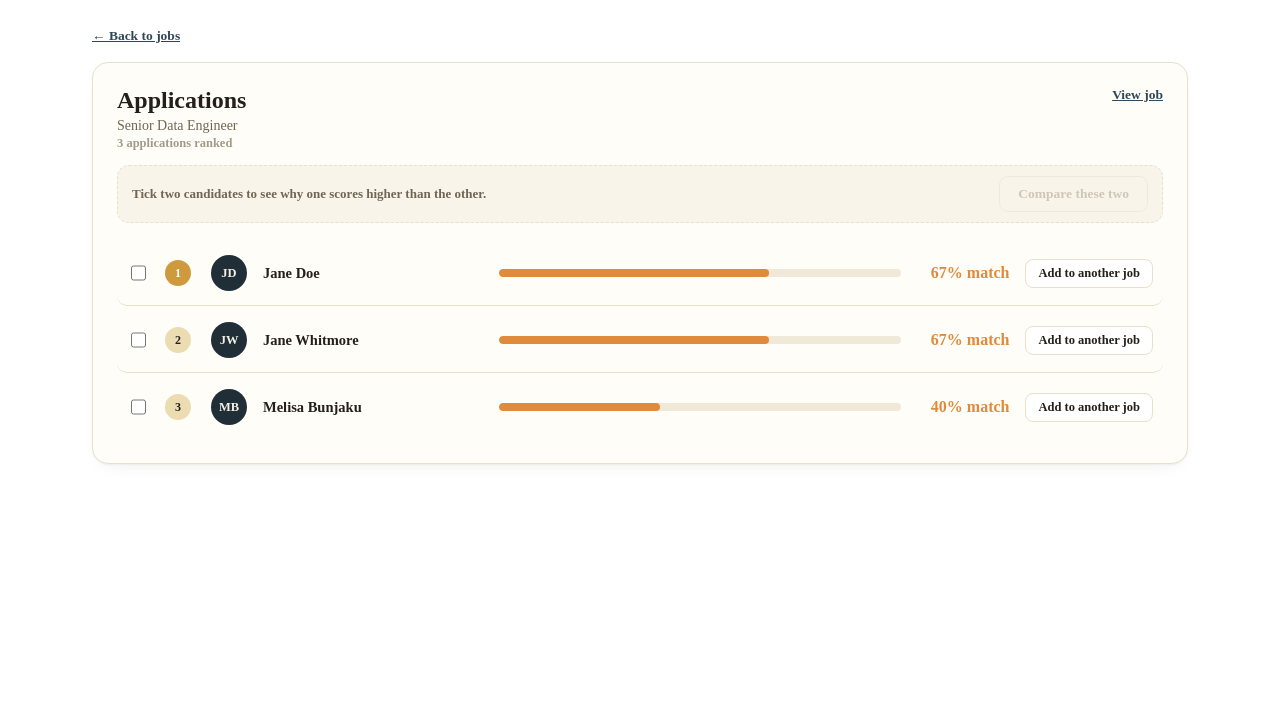
Test: JobMatchesPage › Add to another job › shows the API error inside the dialog and keeps it open
expect the link "Jane Doe" is shown: met, box [263, 264, 320, 280]
Click the 1st button "Add to another job" at (1089, 273), box [1026, 258, 1153, 288]
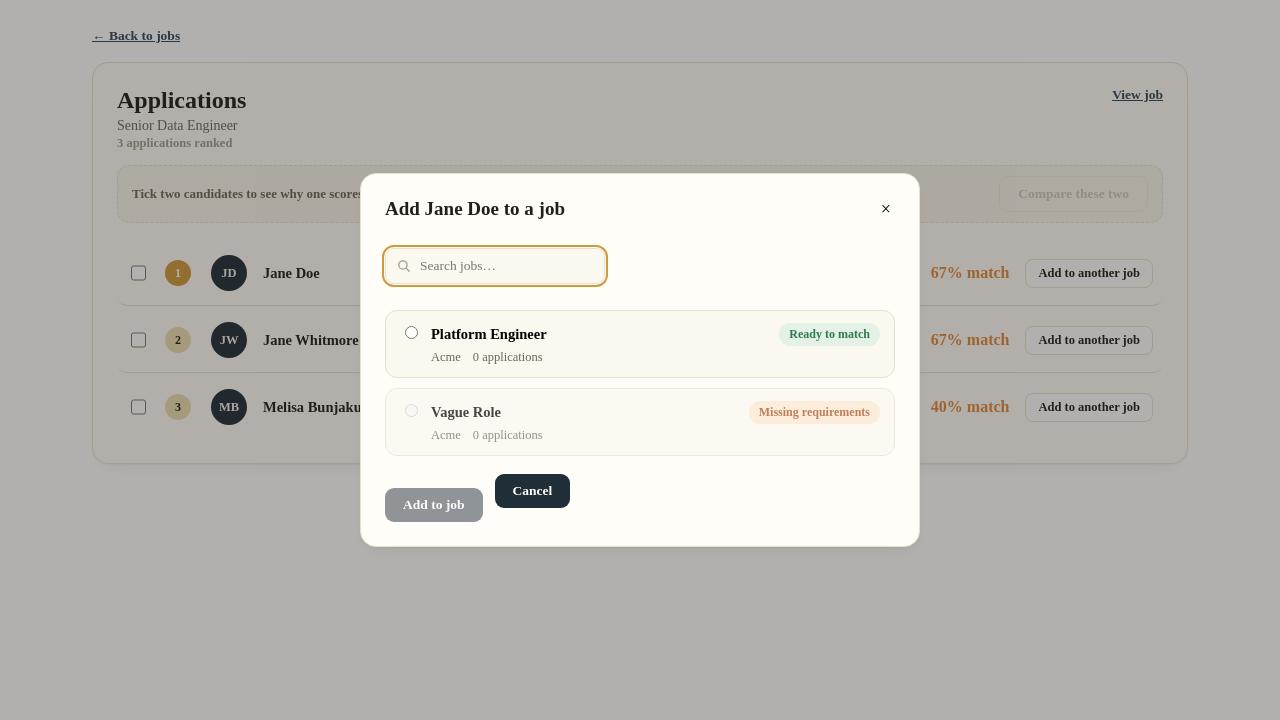
Click the radio button labelled "Platform Engineer Ready to match Acme 0 applications" at (412, 332), box [405, 326, 418, 339]
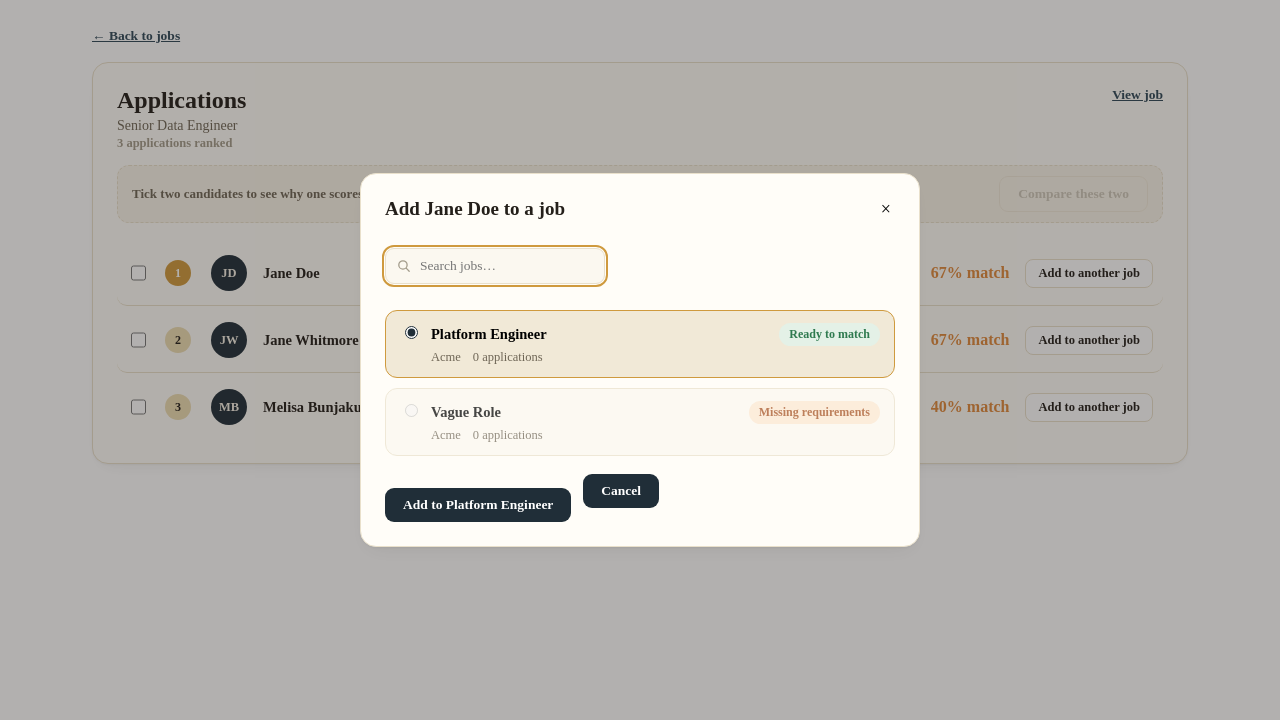
Click the button "Add to Platform Engineer" at (478, 505), box [385, 488, 571, 522]
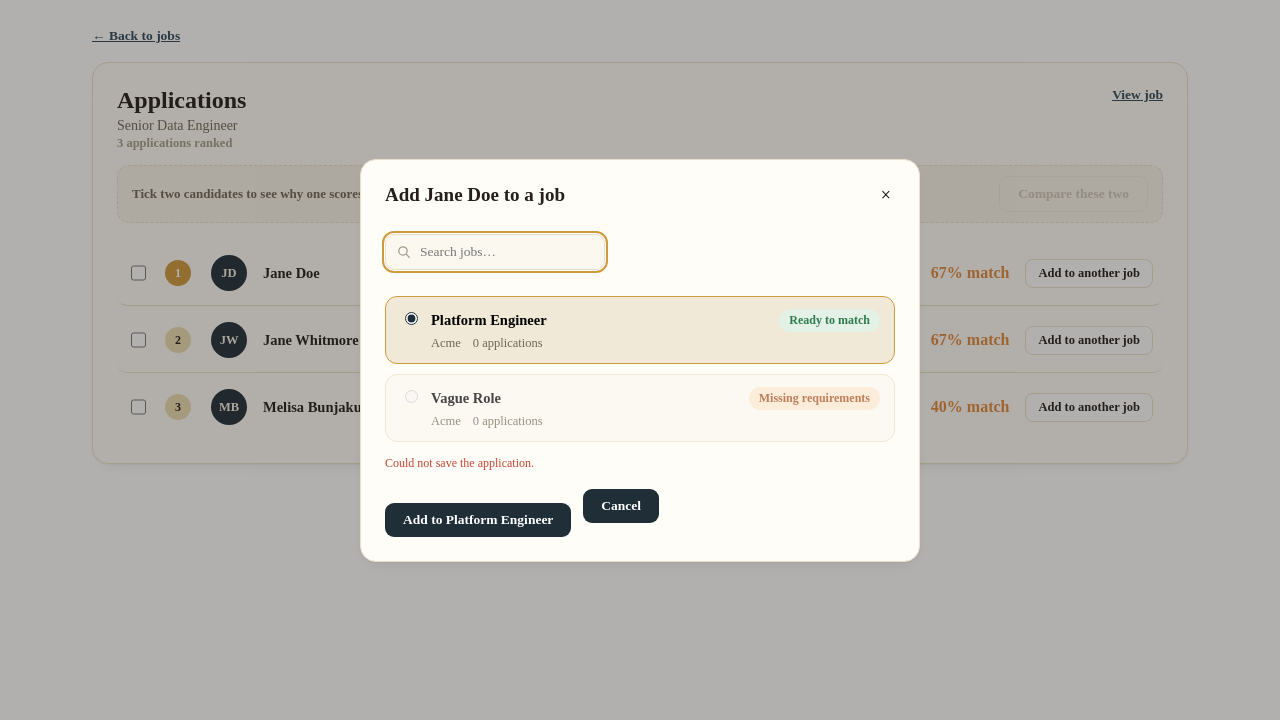
expect the dialog is shown: met, box [360, 158, 920, 562]
expect the message reads "Could not save the application.": met, box [385, 456, 534, 470]
Click the button "Cancel" at (621, 506), box [583, 488, 659, 522]
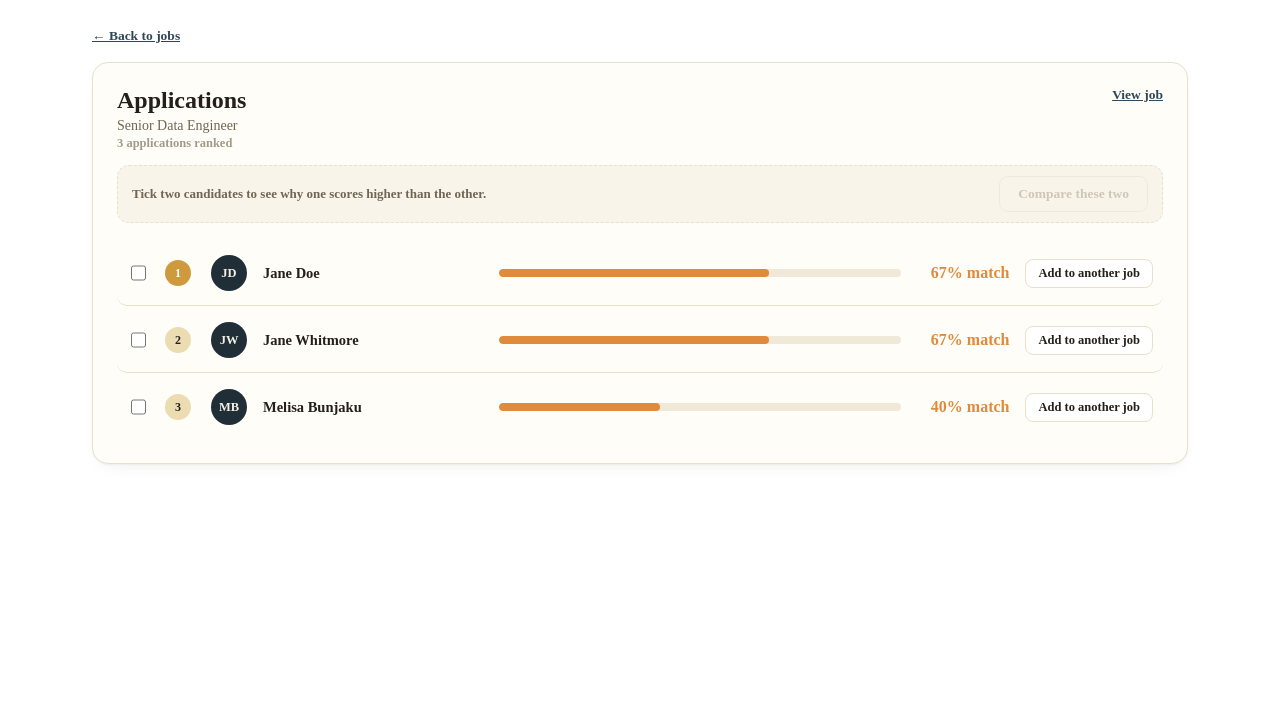
expect the dialog is gone: met
